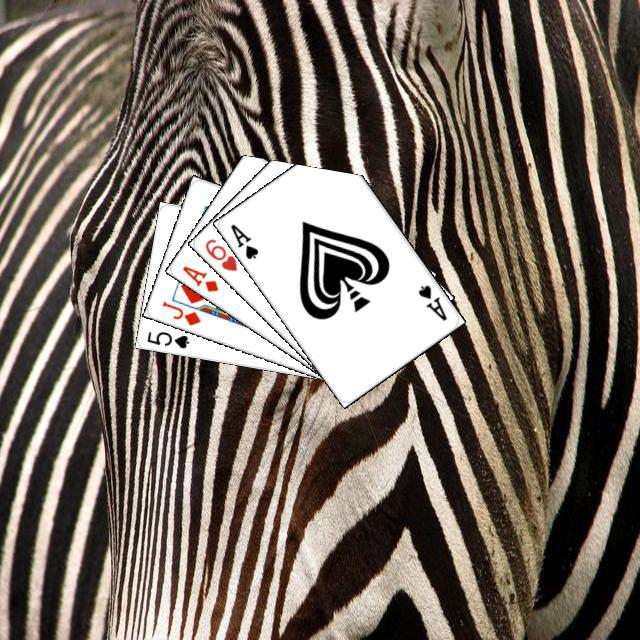5s: (142, 326, 191, 350)
6h: (200, 234, 239, 273)
Ad: (177, 261, 220, 294)
As: (413, 280, 448, 323), (225, 219, 260, 261)
Jd: (157, 296, 203, 327)
